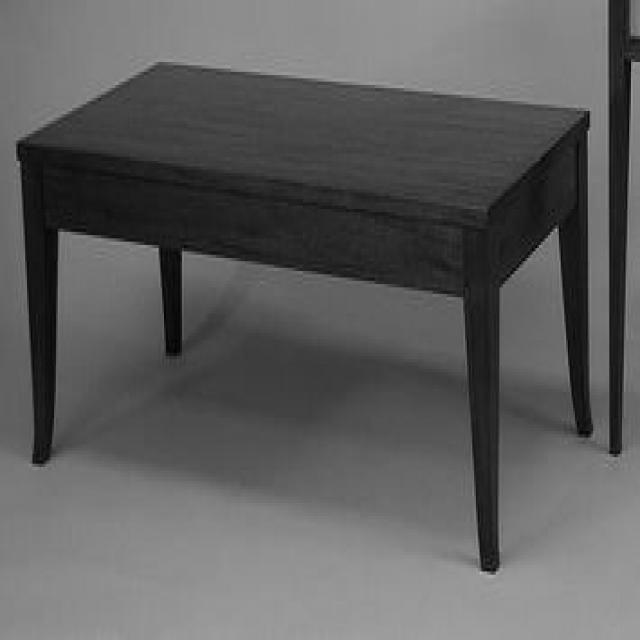table: (13, 61, 596, 575)
